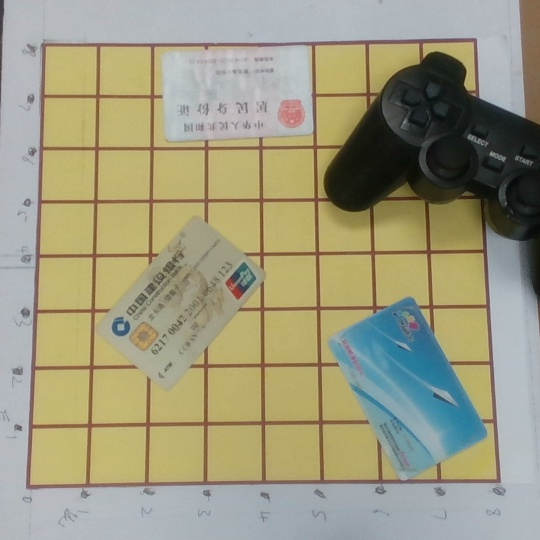card: (96, 213, 265, 392), (325, 295, 487, 480), (161, 44, 317, 136)
remote: (324, 50, 540, 293)
